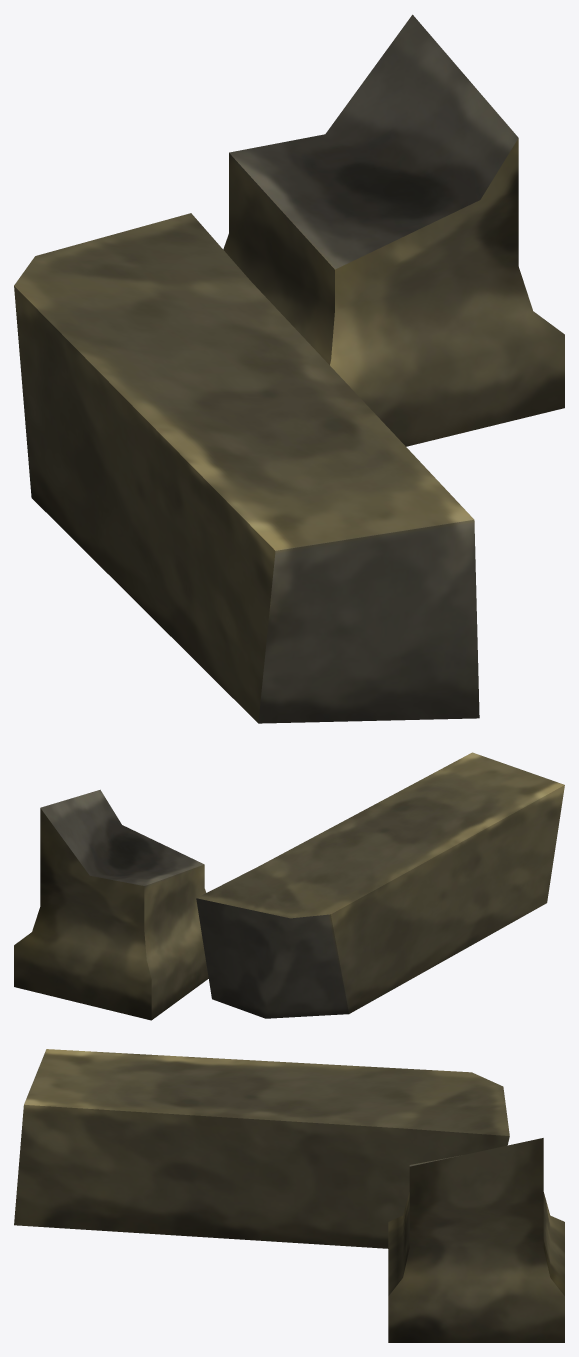
The model's file is BrokeColumn1b.fbx.
3 renders of one model, top to bottom at view 1: azimuth 30°, elevation 25°; view 2: azimuth 150°, elevation 25°; view 3: azimuth 270°, elevation 25°, orthographic. The views are drawn at different scales.
Parts seen in each view (by area): view 1: polySurface10; view 2: polySurface10; view 3: polySurface10.
Boxes of the visible parts, x1,y1,x2,y2 form: polySurface10: (14,14,564,723); polySurface10: (14,752,564,1020); polySurface10: (14,1049,564,1342).
Bounding box in the file's own units: 1.53 × 0.8082 × 2.06.
